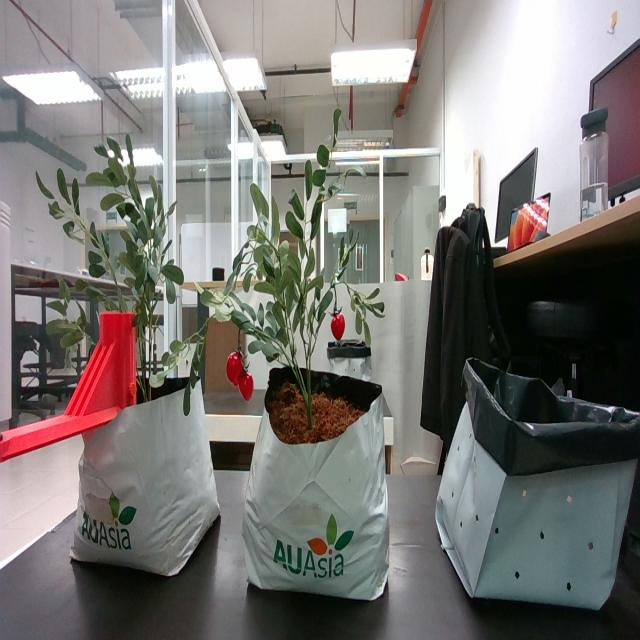EndEffector: (0, 312, 136, 463)
Soilbag: (436, 377, 640, 613), (242, 368, 392, 604), (71, 381, 220, 580)
Tomato: (226, 341, 254, 403), (330, 314, 346, 341)
plant: (195, 161, 386, 431), (38, 135, 184, 402)
